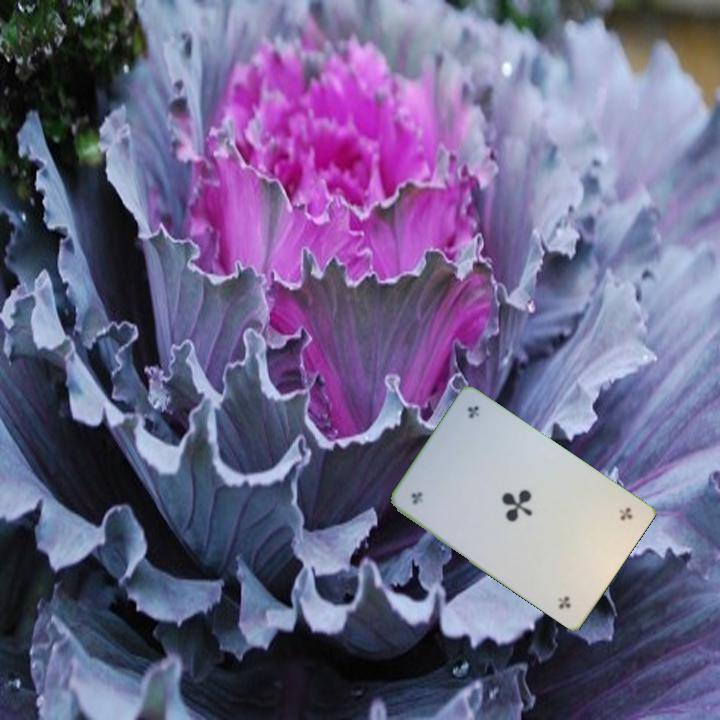c_a.png: (399, 447, 482, 533), (560, 482, 643, 568)
